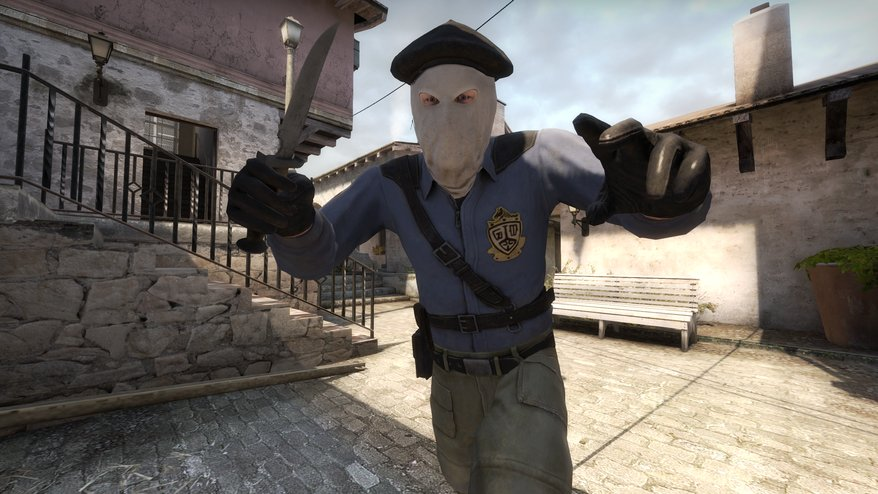t: (255, 9, 690, 493)
th: (370, 20, 528, 204)
